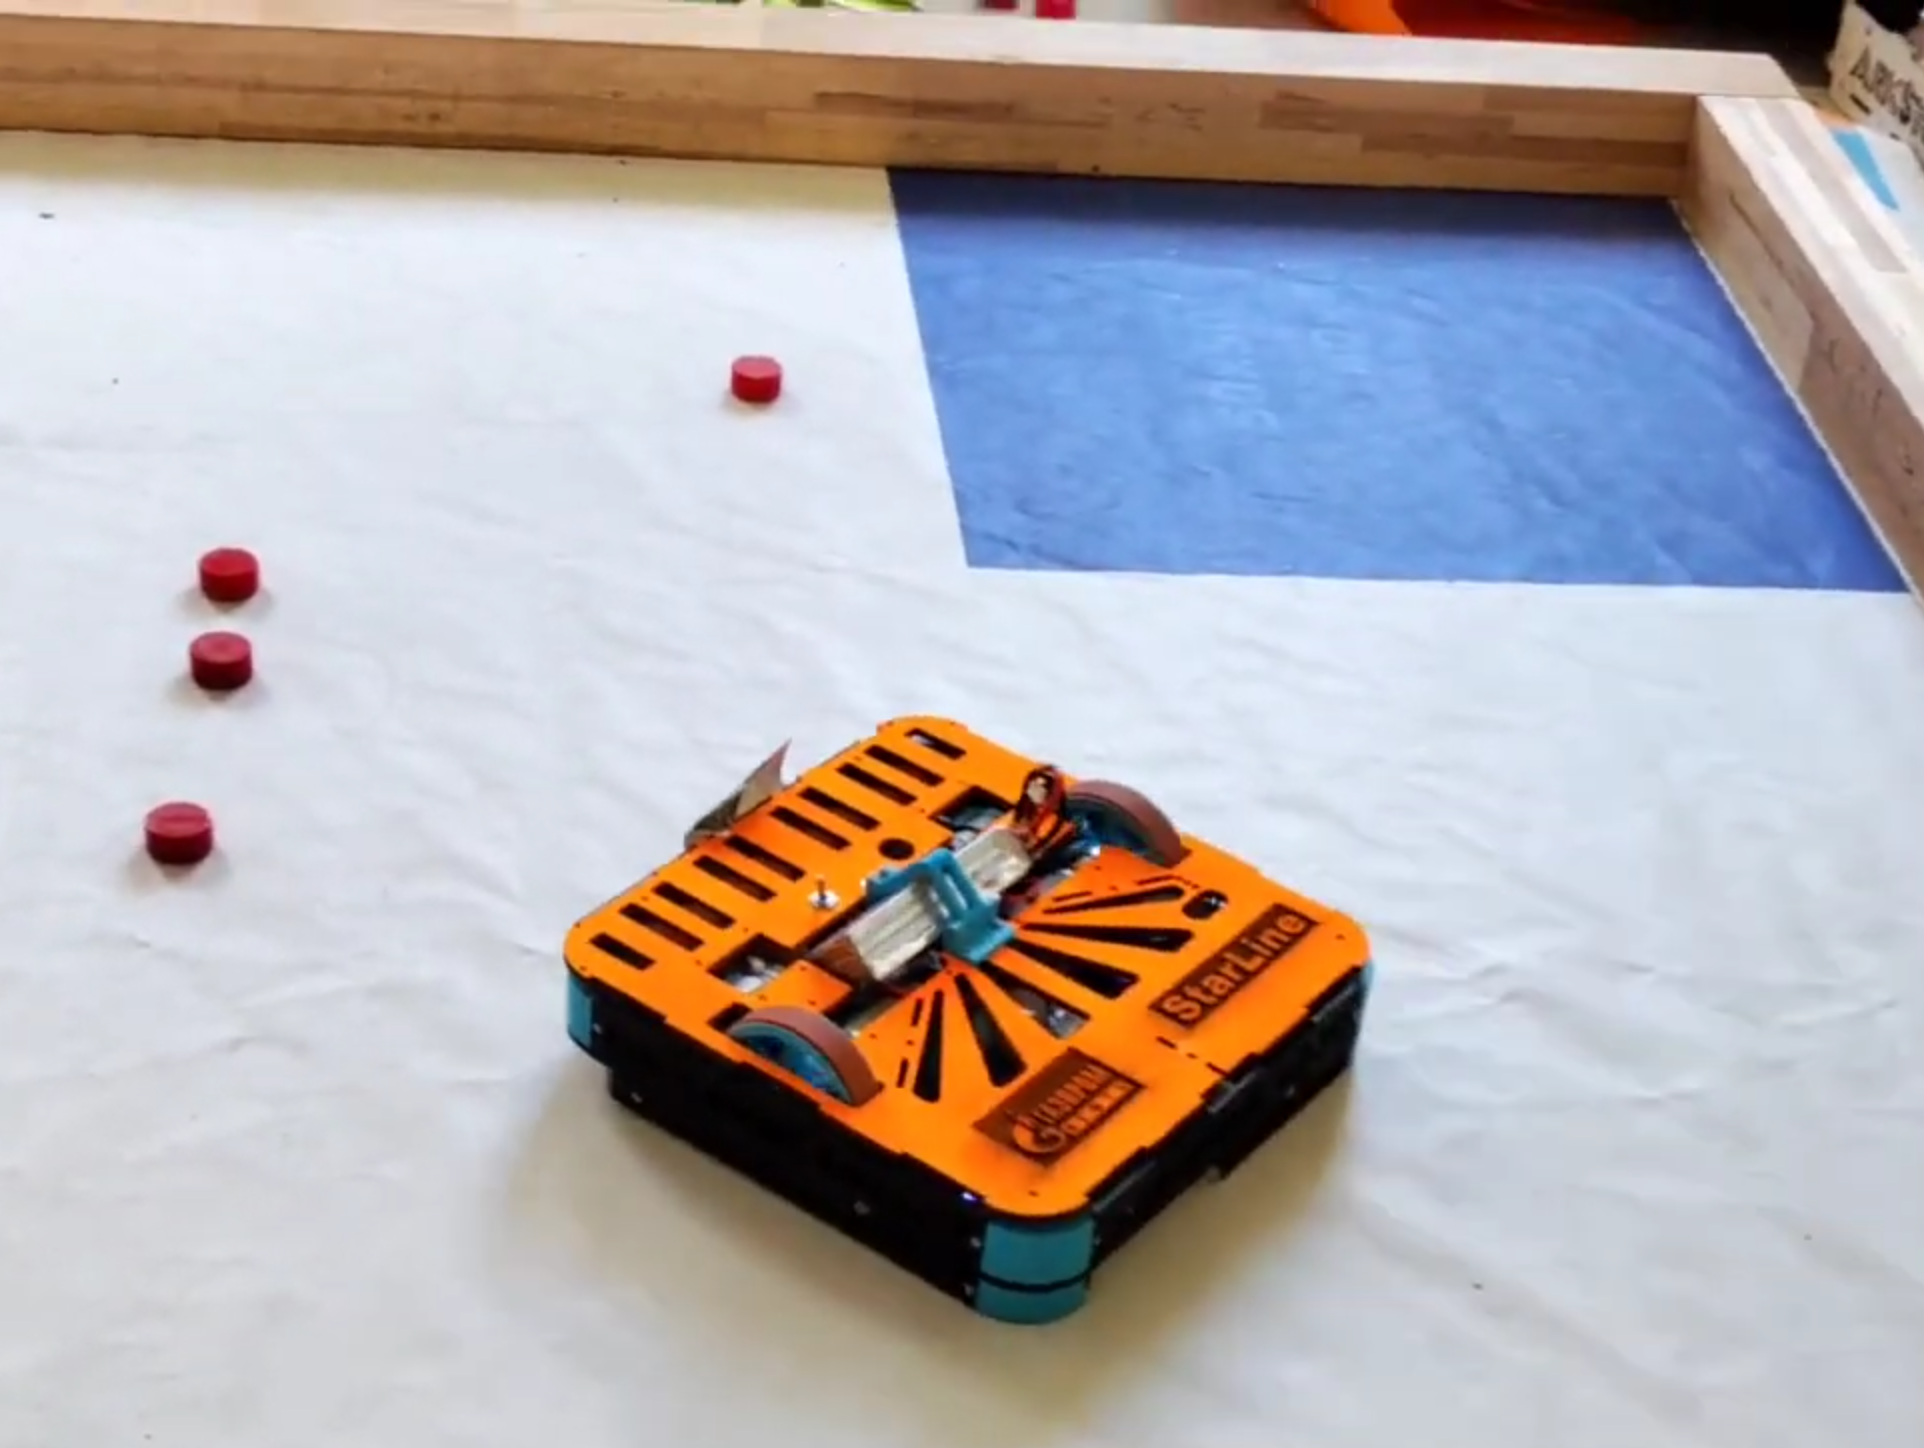blue_base: (887, 164, 1907, 593)
red_puck: (143, 802, 211, 862), (192, 633, 252, 687), (201, 548, 257, 599), (732, 354, 782, 402)
